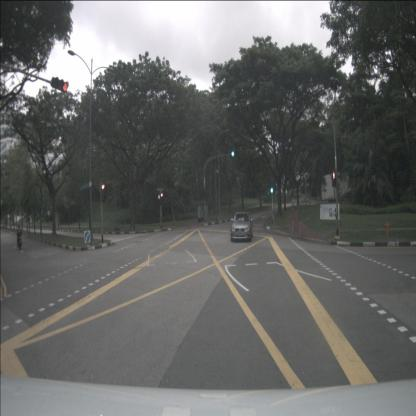human-pedestrian-adult: (291, 197, 295, 213)
vehicle-car: (231, 211, 253, 242)
vehicle-motorcycle: (16, 224, 22, 250)
